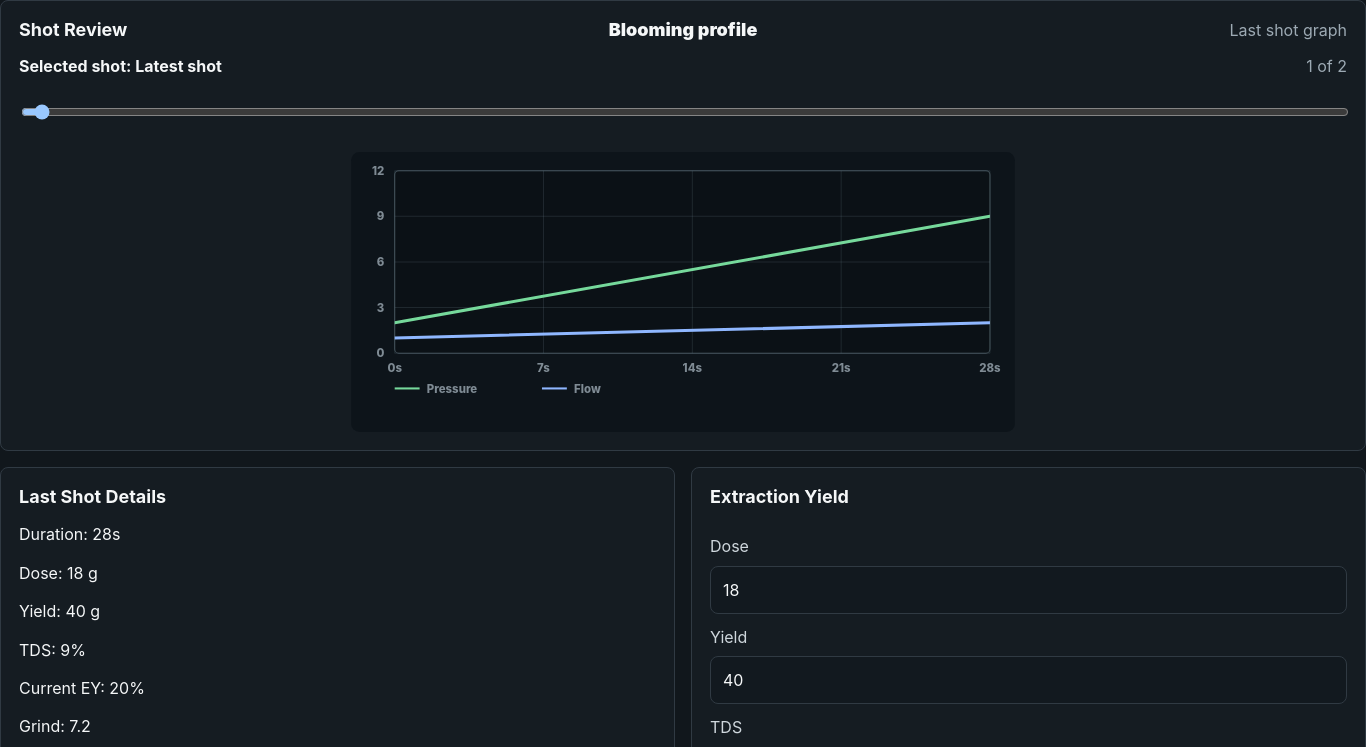
ReviewPage › starts on the latest shot and scrubs through previous same-bag shot details
Expected: the text "Selected shot: Latest shot" is shown, [19, 55, 222, 78]
Expected: the text "Yield: 40 g" is shown, [19, 601, 100, 621]
Set the slider named "Shot scrubber" to "1" at point(1341, 112), box [21, 88, 1349, 136]
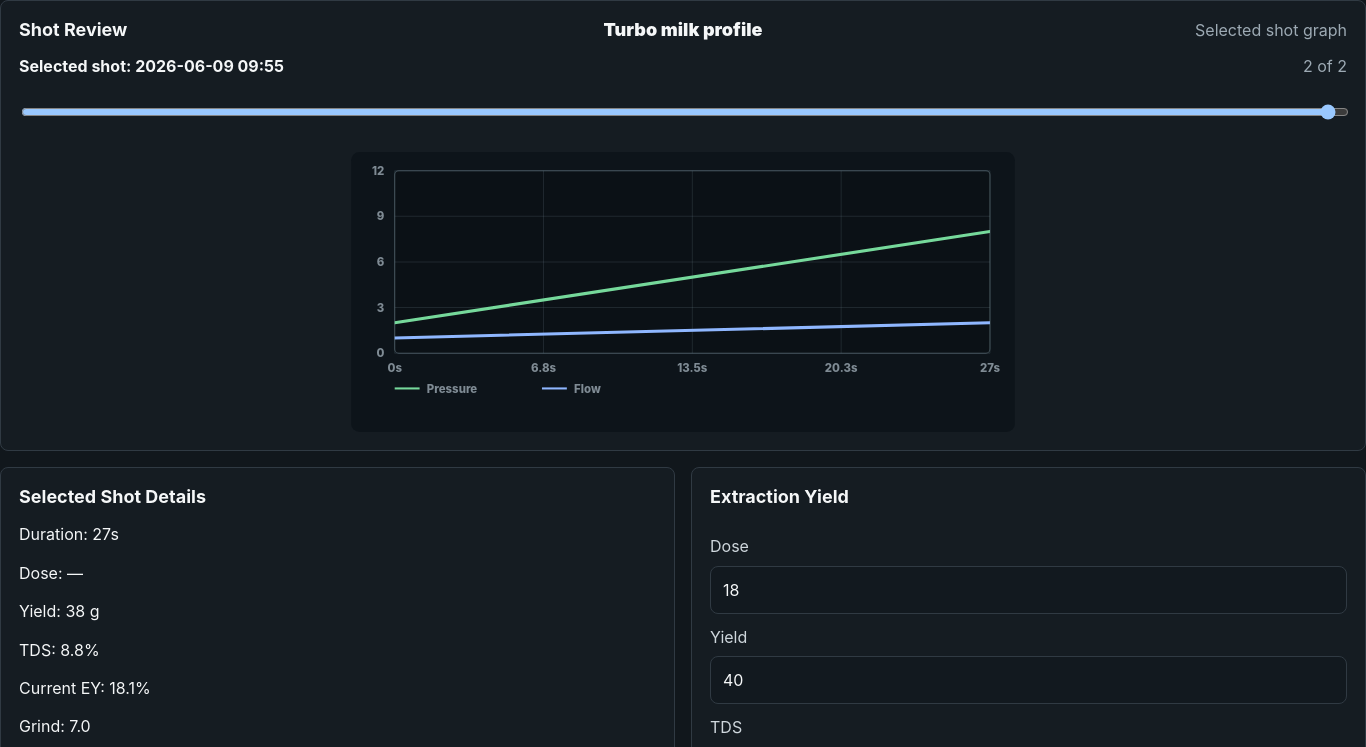
Now the text "Selected shot: 2026-06-09 09:55" is shown, box [19, 55, 284, 78]
Now the text "Duration: 27s" is shown, box [19, 524, 119, 544]
Now the text "Yield: 38 g" is shown, box [19, 601, 100, 621]
